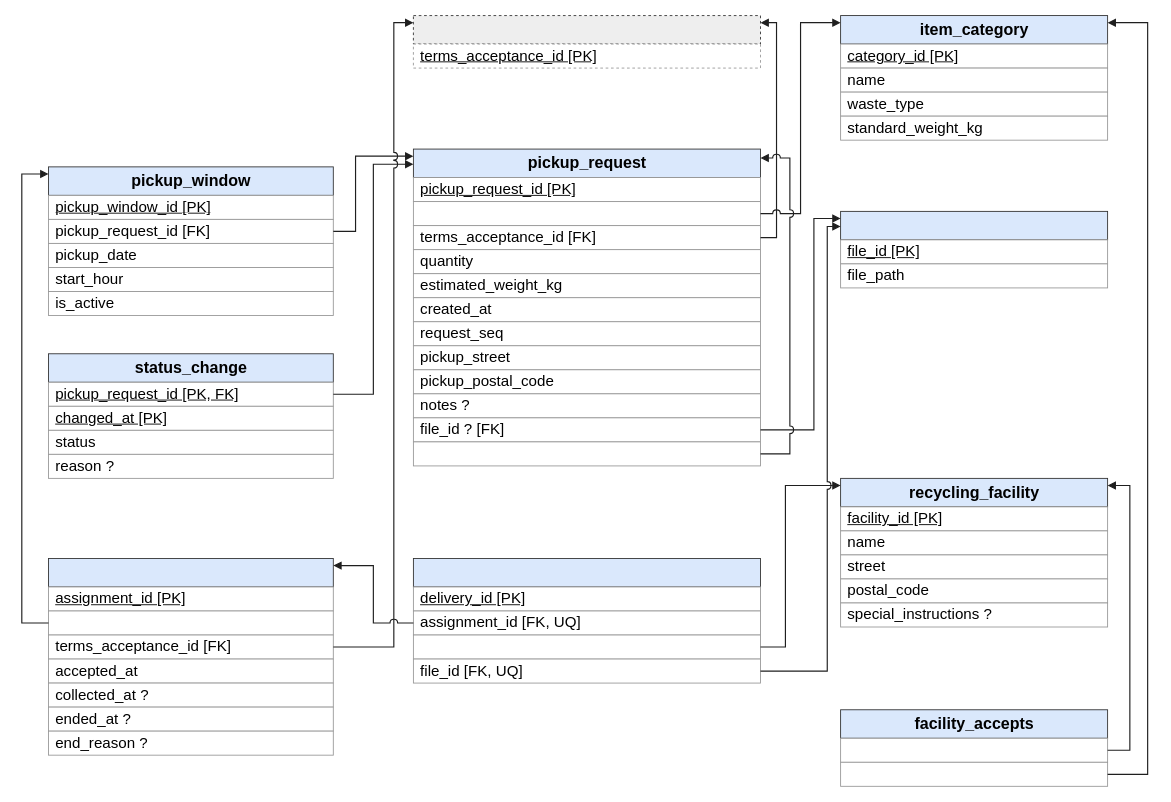
Some shapes in this 1171 by 802 pixel diagram are drawn without their labels. Here are the shapes that lost their labels. From the top down, the centre of each, then its label:
the point at 587,29: users.terms_acceptance
the point at 587,213: category_id [FK]
the point at 974,225: photo
the point at 587,453: rescheduled_from_request_id ? [FK, UQ]
the point at 190,572: assignment
the point at 587,572: delivery
the point at 190,622: pickup_window_id [FK]
the point at 587,646: facility_id [FK]
the point at 974,749: facility_id [PK, FK]
the point at 974,773: category_id [PK, FK]
